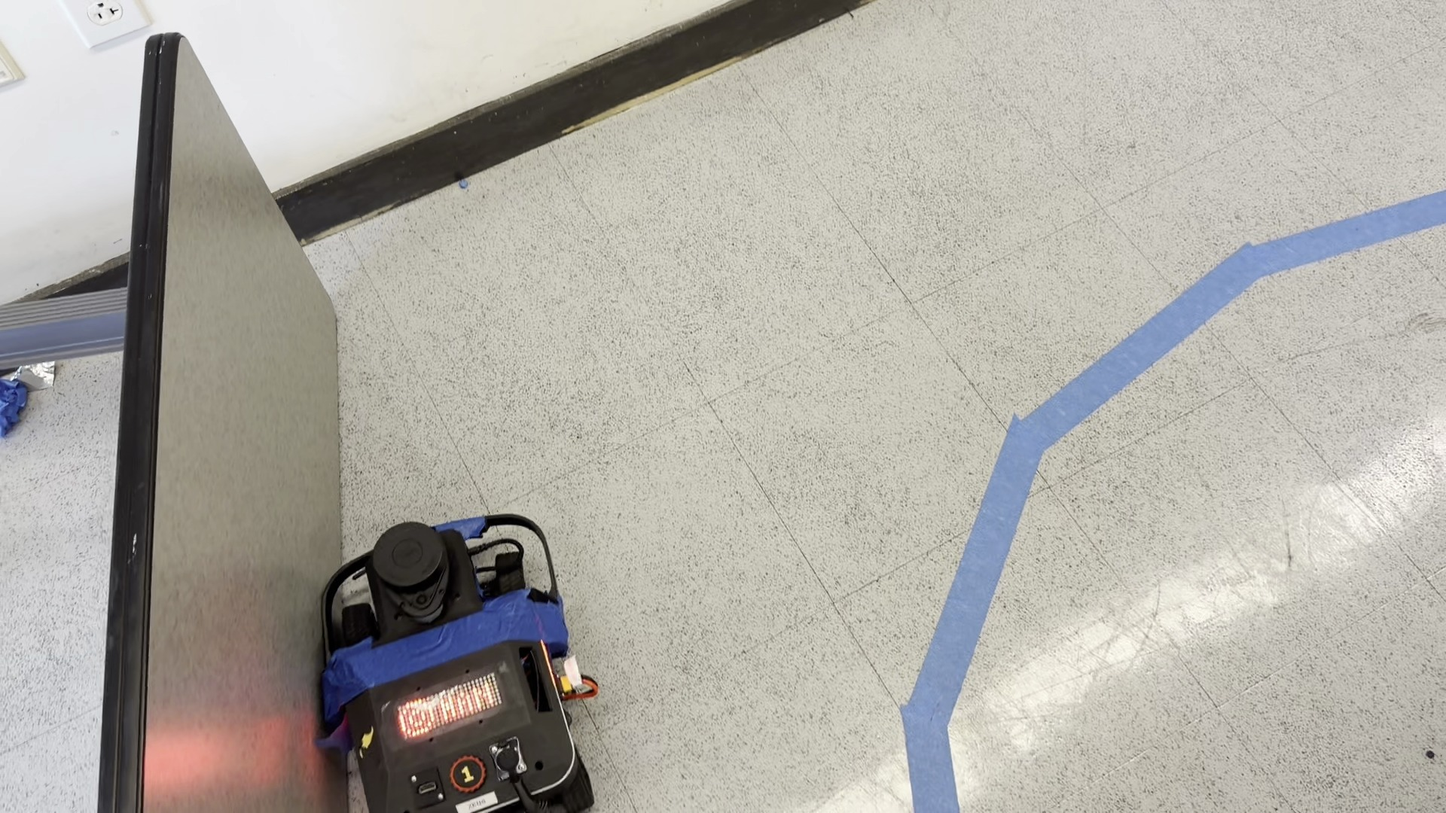racecar: (316, 516, 598, 813)
